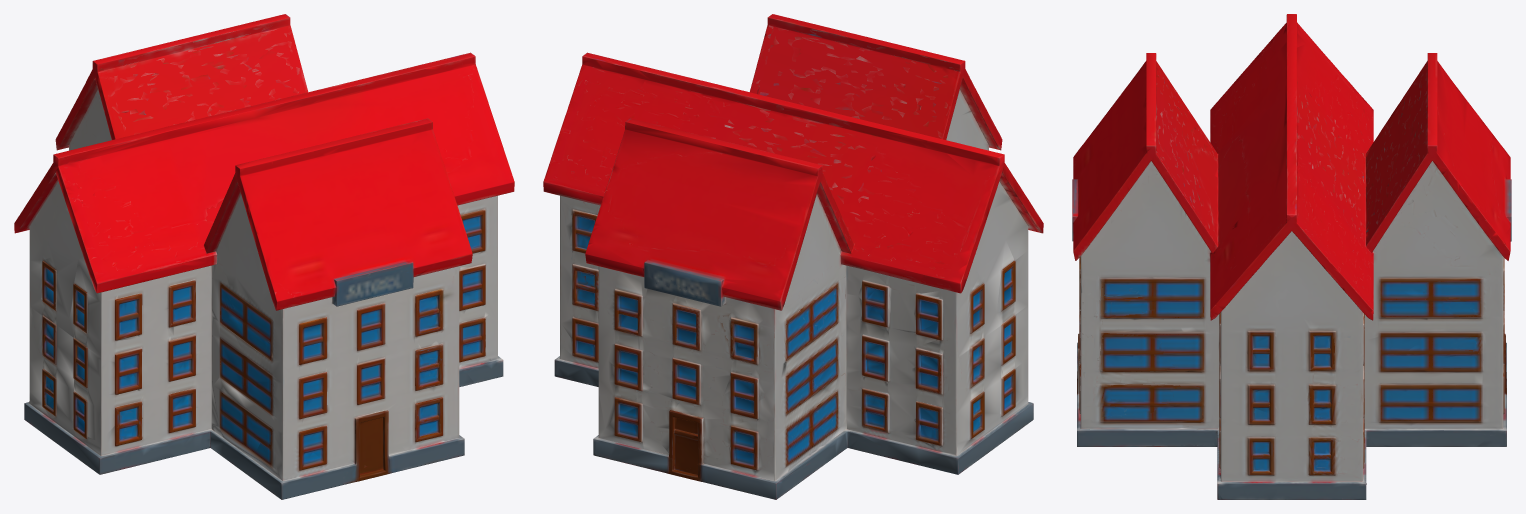
File: school_level3.glb
The picture shows the model from 3 angles, left to right: view 1: azimuth 30°, elevation 25°; view 2: azimuth 150°, elevation 25°; view 3: azimuth 270°, elevation 25°; orthographic projection.
Visible parts, largest first — view 1: material; view 2: material; view 3: material.
Boxes of the visible parts, bbox=[...] form: material: bbox=[14, 14, 514, 499]; material: bbox=[543, 14, 1043, 499]; material: bbox=[1072, 14, 1511, 499].
Size of the model in its own units: 0.9707 by 0.6826 by 0.8964.
Materials: 1 (1 with a texture image).
